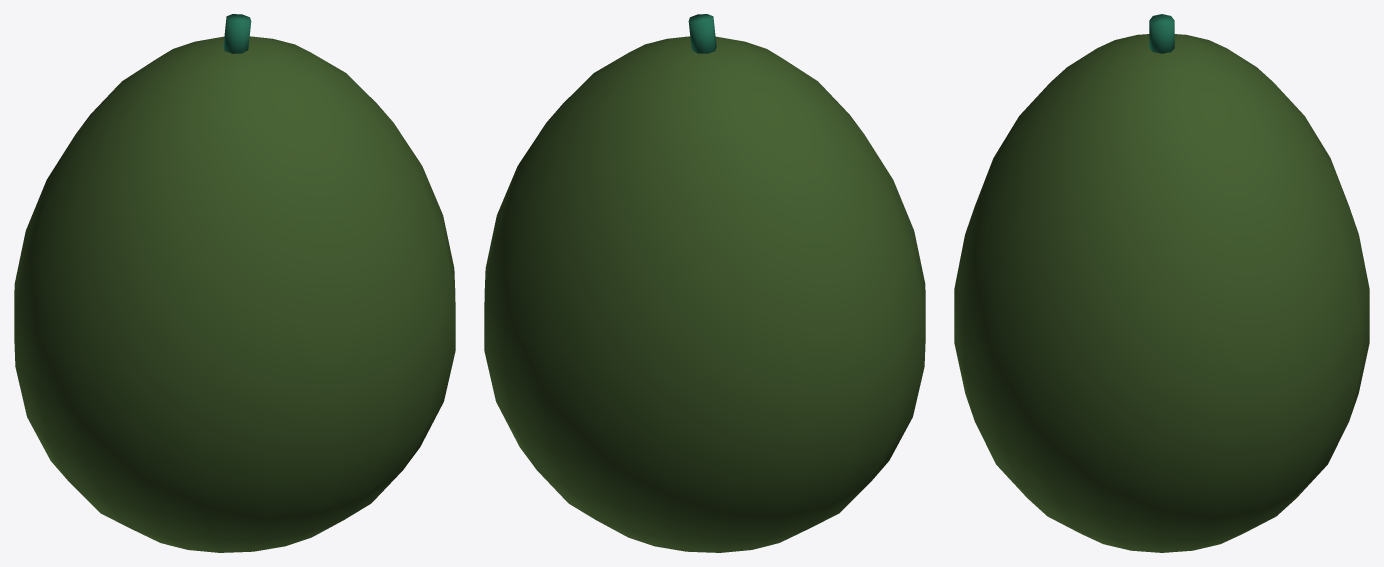
File: avocado.glb
3 renders of one model, left to right at view 1: azimuth 30°, elevation 25°; view 2: azimuth 150°, elevation 25°; view 3: azimuth 270°, elevation 25°, orthographic.
Parts seen in each view (by area): view 1: fruit, stem; view 2: fruit, stem; view 3: fruit, stem.
Boxes of the visible parts, <box> form: fruit: <box>14,36,455,552</box>; stem: <box>223,14,251,53</box>; fruit: <box>484,36,925,552</box>; stem: <box>688,14,716,53</box>; fruit: <box>954,34,1369,552</box>; stem: <box>1149,14,1174,53</box>.
Bounding box in the file's own units: 0.6 × 0.75 × 0.55.
